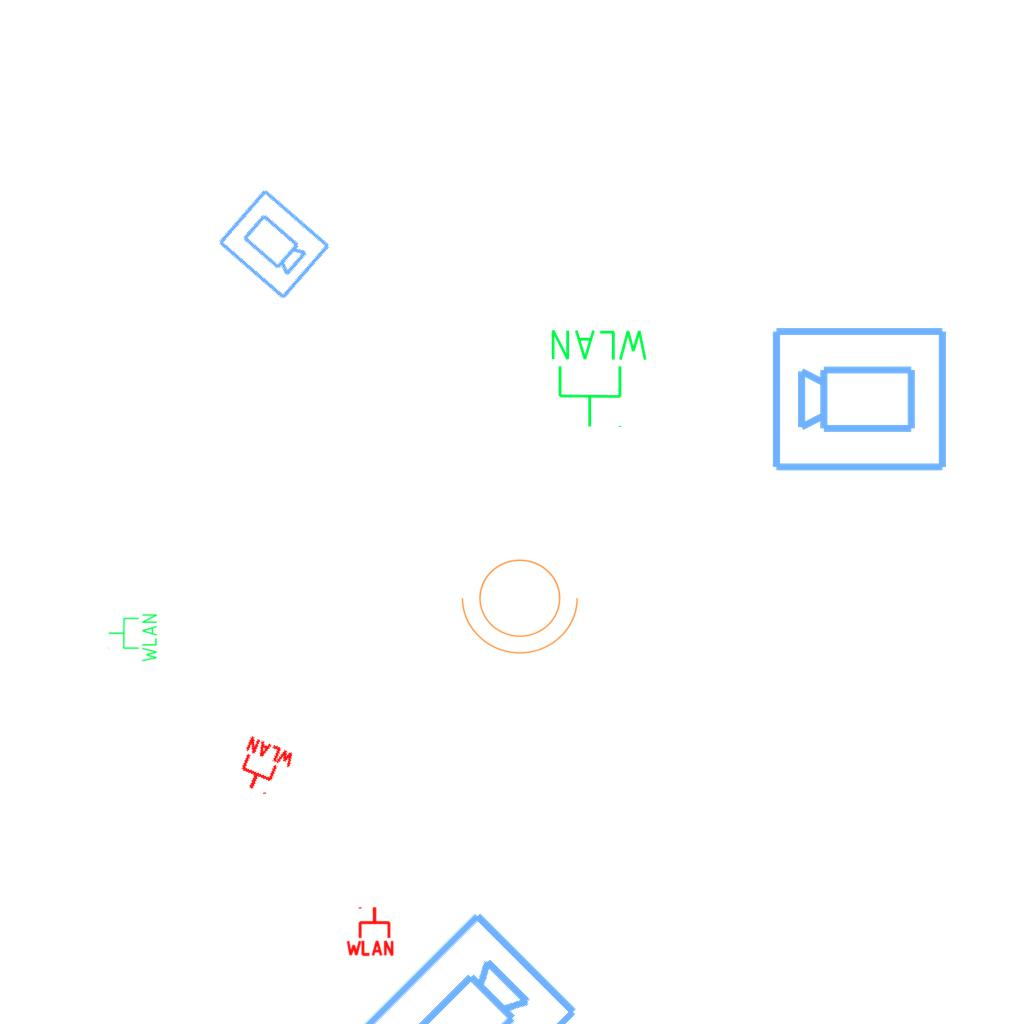KFO_Kamera_mit_Festobjektiv: (348, 905, 586, 1024), (769, 321, 951, 475), (213, 185, 334, 304)
Scheinwerfer_fuer_Alarmbeleuchtung: (457, 547, 589, 659)
WLAN: (547, 326, 652, 430), (230, 734, 298, 802), (107, 612, 159, 664), (344, 905, 396, 957)
